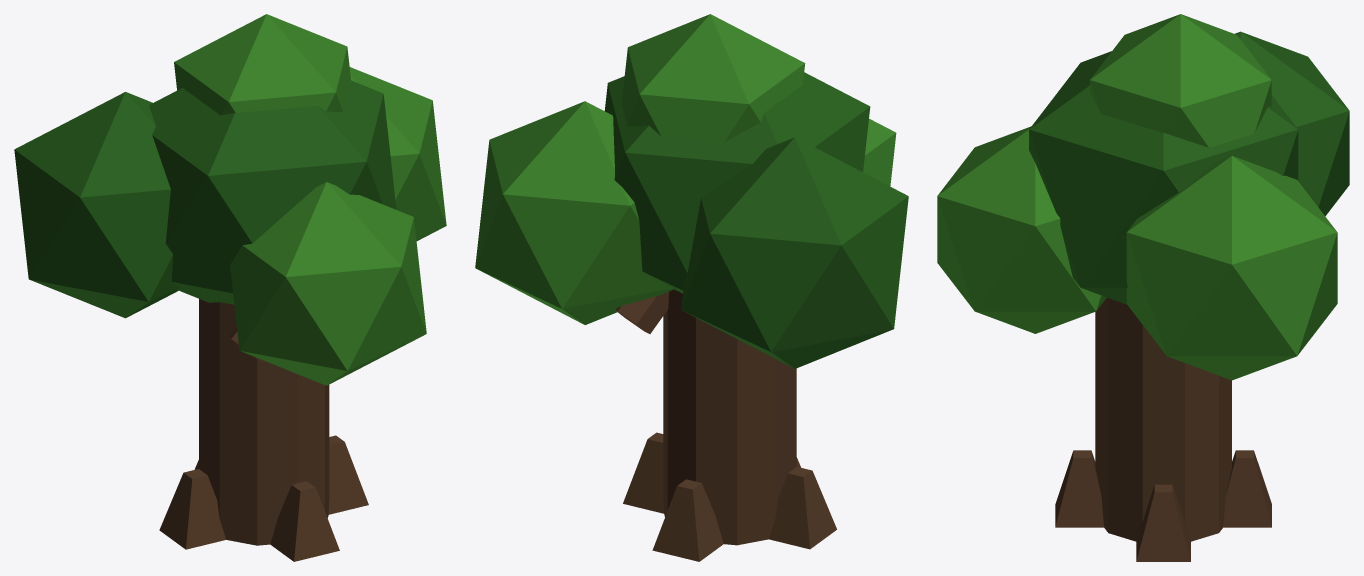
Rendered from AncientOak.fbx.
3 views of the same model, side by side, from view 1: azimuth 30°, elevation 25°; view 2: azimuth 150°, elevation 25°; view 3: azimuth 270°, elevation 25° (orthographic). The views are drawn at different scales.
Parts seen in each view (by area): view 1: CanopyCluster_Center, CanopyCluster_Branch3, CanopyCluster_Branch2, Trunk, CanopyCluster_TopCrown, CanopyCluster_Branch1, RootFlare_4, RootFlare_3, RootFlare_1; view 2: CanopyCluster_Branch2, CanopyCluster_Branch1, Trunk, CanopyCluster_Center, CanopyCluster_TopCrown, RootFlare_2, RootFlare_3, RootFlare_1, CanopyCluster_Branch3, Branch_1; view 3: CanopyCluster_Branch1, CanopyCluster_Center, Trunk, CanopyCluster_Branch3, CanopyCluster_TopCrown, CanopyCluster_Branch2, RootFlare_1, RootFlare_4, RootFlare_2.
Boxes of the visible parts, bbox=[...] form: CanopyCluster_Center: bbox=[149, 80, 396, 304]; CanopyCluster_Branch3: bbox=[230, 182, 426, 385]; CanopyCluster_Branch2: bbox=[14, 92, 179, 318]; Trunk: bbox=[199, 299, 329, 545]; CanopyCluster_TopCrown: bbox=[174, 14, 350, 115]; CanopyCluster_Branch1: bbox=[349, 67, 446, 240]; RootFlare_4: bbox=[270, 481, 339, 561]; RootFlare_3: bbox=[159, 469, 225, 549]; RootFlare_1: bbox=[328, 435, 368, 514]; CanopyCluster_Branch2: bbox=[681, 137, 908, 368]; CanopyCluster_Branch1: bbox=[475, 101, 674, 324]; Trunk: bbox=[663, 289, 796, 545]; CanopyCluster_Center: bbox=[604, 72, 870, 293]; CanopyCluster_TopCrown: bbox=[621, 14, 805, 142]; RootFlare_2: bbox=[652, 479, 723, 561]; RootFlare_3: bbox=[769, 467, 836, 549]; RootFlare_1: bbox=[623, 432, 663, 513]; CanopyCluster_Branch3: bbox=[863, 118, 896, 186]; Branch_1: bbox=[615, 291, 668, 333]; CanopyCluster_Branch1: bbox=[1126, 156, 1337, 380]; CanopyCluster_Center: bbox=[1029, 51, 1298, 304]; Trunk: bbox=[1095, 297, 1231, 541]; CanopyCluster_Branch3: bbox=[937, 126, 1106, 333]; CanopyCluster_TopCrown: bbox=[1090, 14, 1271, 147]; CanopyCluster_Branch2: bbox=[1235, 31, 1349, 216]; RootFlare_1: bbox=[1136, 484, 1190, 561]; RootFlare_4: bbox=[1055, 450, 1103, 527]; RootFlare_2: bbox=[1223, 450, 1271, 527].
Bounding box in the file's own units: 5.54 × 4.82 × 6.55.
